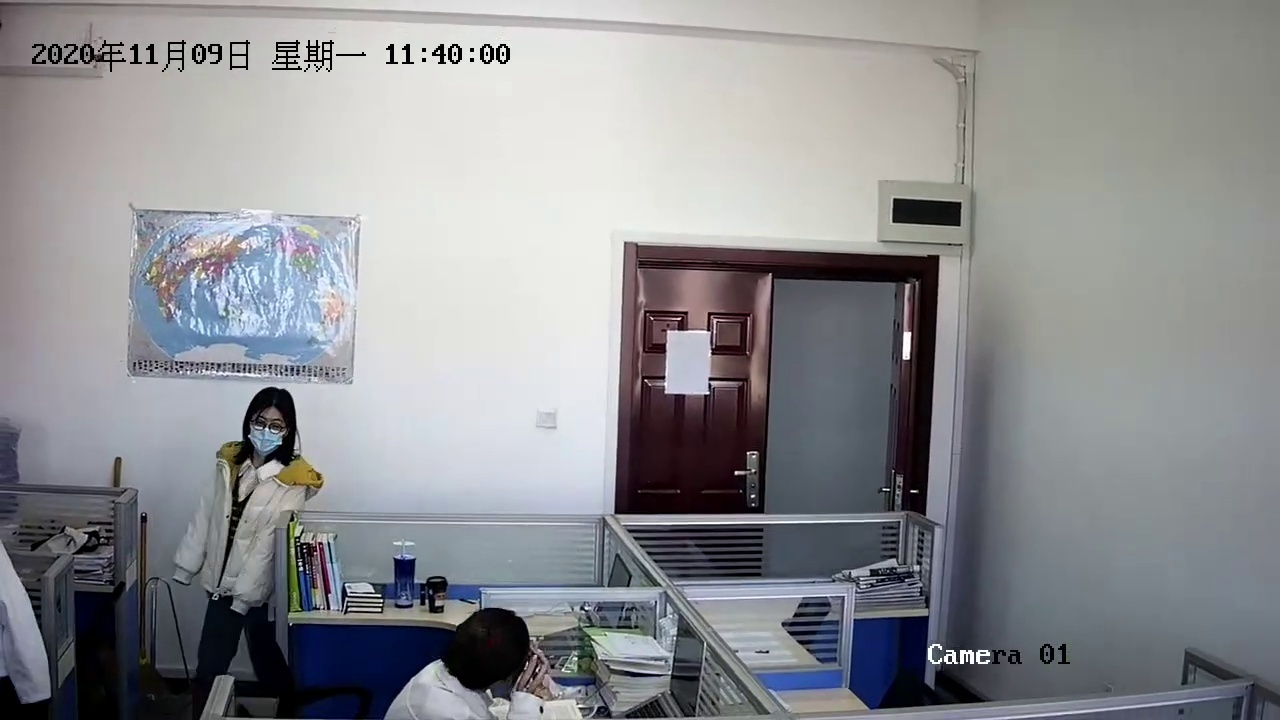mask: (243, 394, 294, 458)
